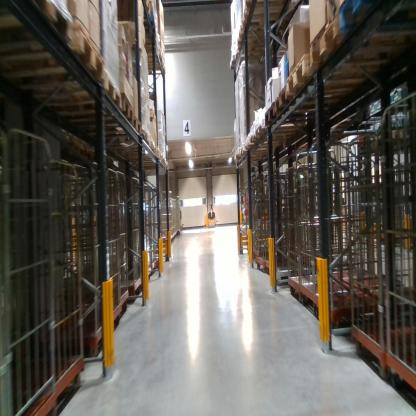pallet: (1, 24, 102, 91), (285, 50, 409, 94), (308, 15, 409, 65), (22, 70, 123, 111), (49, 82, 135, 128), (2, 2, 72, 42), (338, 2, 414, 38), (263, 97, 356, 126), (273, 80, 349, 113), (71, 108, 142, 138), (226, 44, 284, 69), (243, 131, 302, 152), (241, 13, 288, 38), (254, 122, 304, 142), (106, 137, 156, 157), (235, 26, 282, 47), (102, 129, 148, 149), (136, 53, 167, 78), (243, 2, 288, 18), (142, 15, 159, 37), (154, 149, 161, 165), (163, 155, 168, 166), (165, 163, 169, 169)
pallet_truck: (202, 200, 220, 232)
